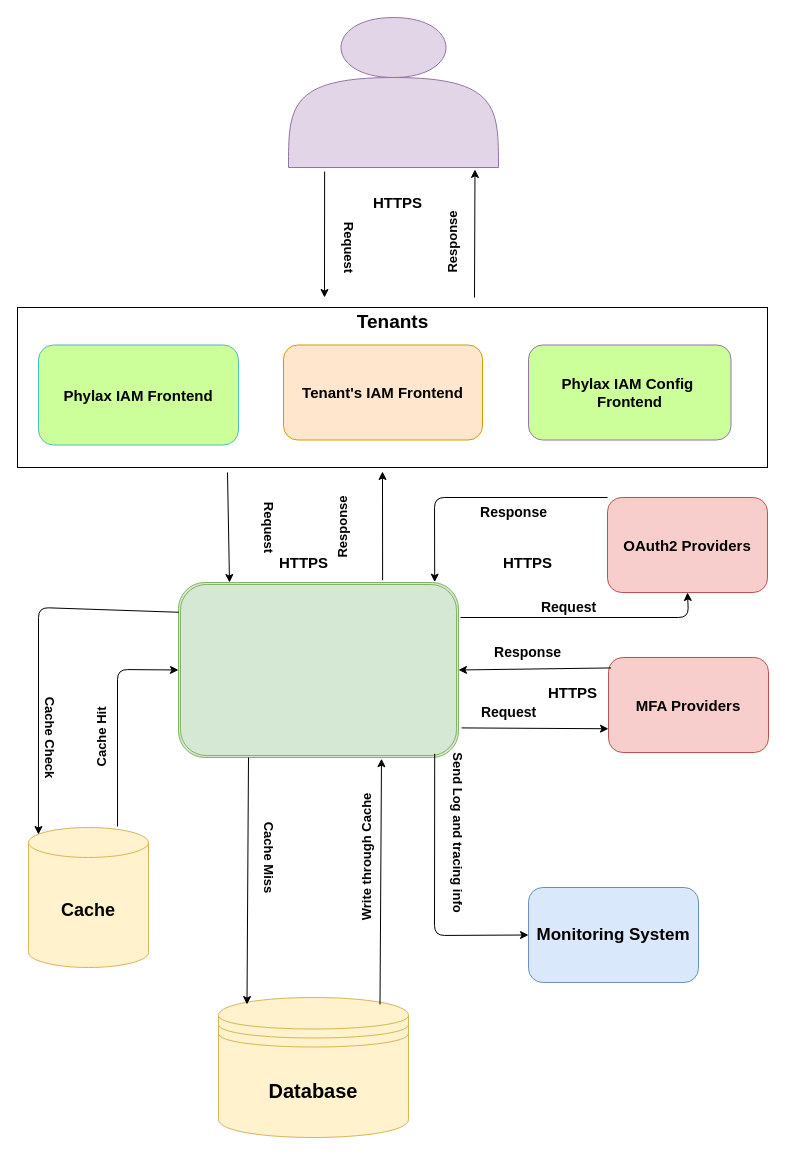
Image size: 786x1155. Some labels were removed from this diagram. Here are the shapes that lost their labels. From the top down, the box of each, then its label:
(288, 16, 498, 168): End User Can be any tenant user or application
(178, 582, 458, 758): Phylax IAM Application
